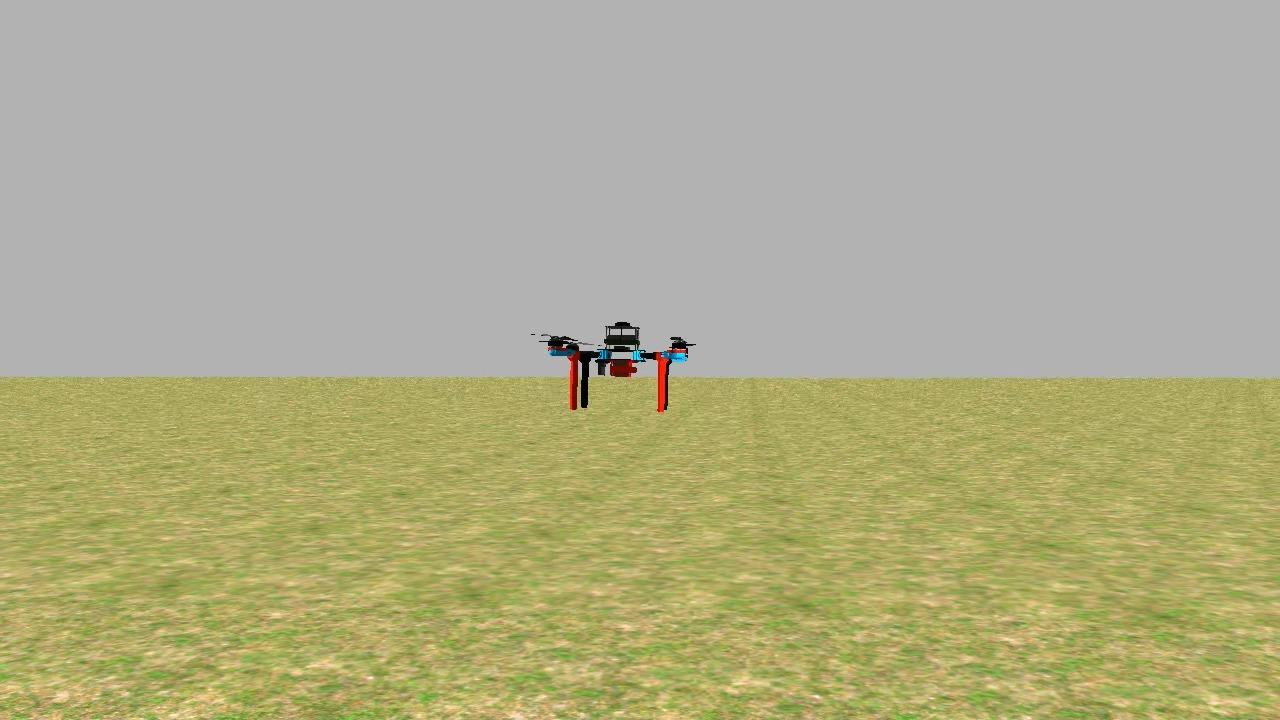UAV: (532, 306, 700, 421)
